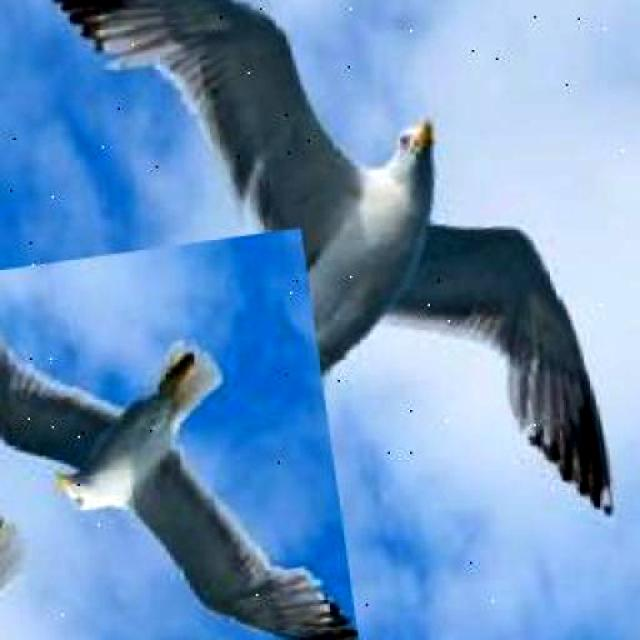airplane: (54, 0, 618, 579), (0, 228, 361, 640)
